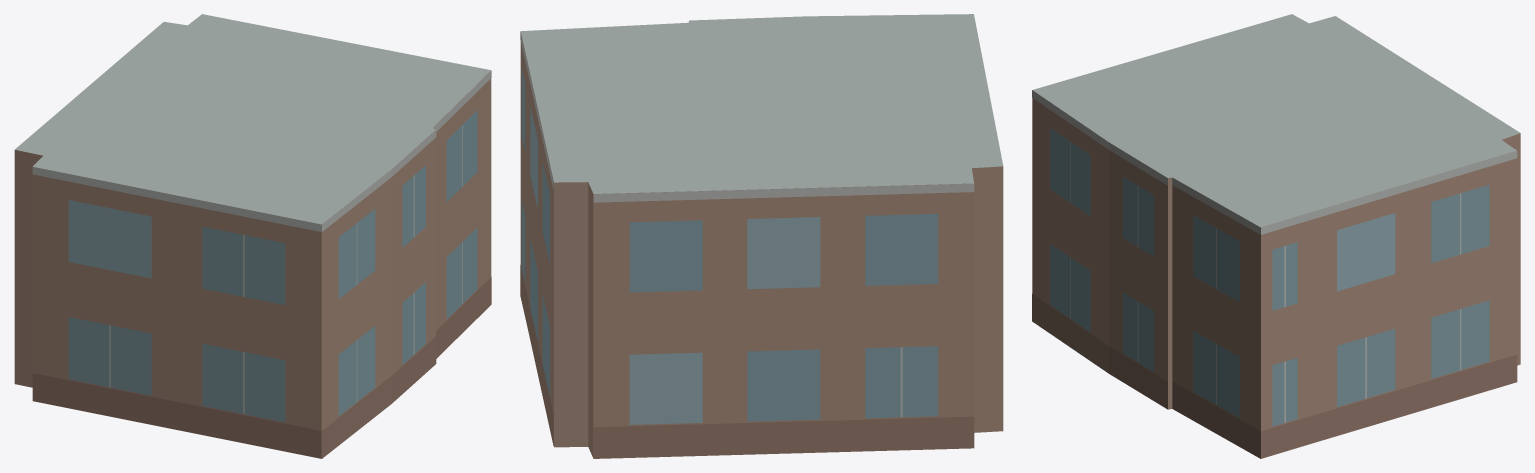
File: survey-upis-32625505.glb
3 renders of one model, left to right at view 1: azimuth 30°, elevation 25°; view 2: azimuth 150°, elevation 25°; view 3: azimuth 270°, elevation 25°, orthographic. The views are drawn at different scales.
Visible parts, largest first — view 1: survey-upis-32625505.tmp; view 2: survey-upis-32625505.tmp; view 3: survey-upis-32625505.tmp.
Part boxes in pixels (x1,y1,x2,y2): survey-upis-32625505.tmp: (14, 14, 491, 458); survey-upis-32625505.tmp: (520, 14, 1003, 458); survey-upis-32625505.tmp: (1032, 14, 1520, 458).
Size of the model in its own units: 14.85 by 7.5 by 14.36.
